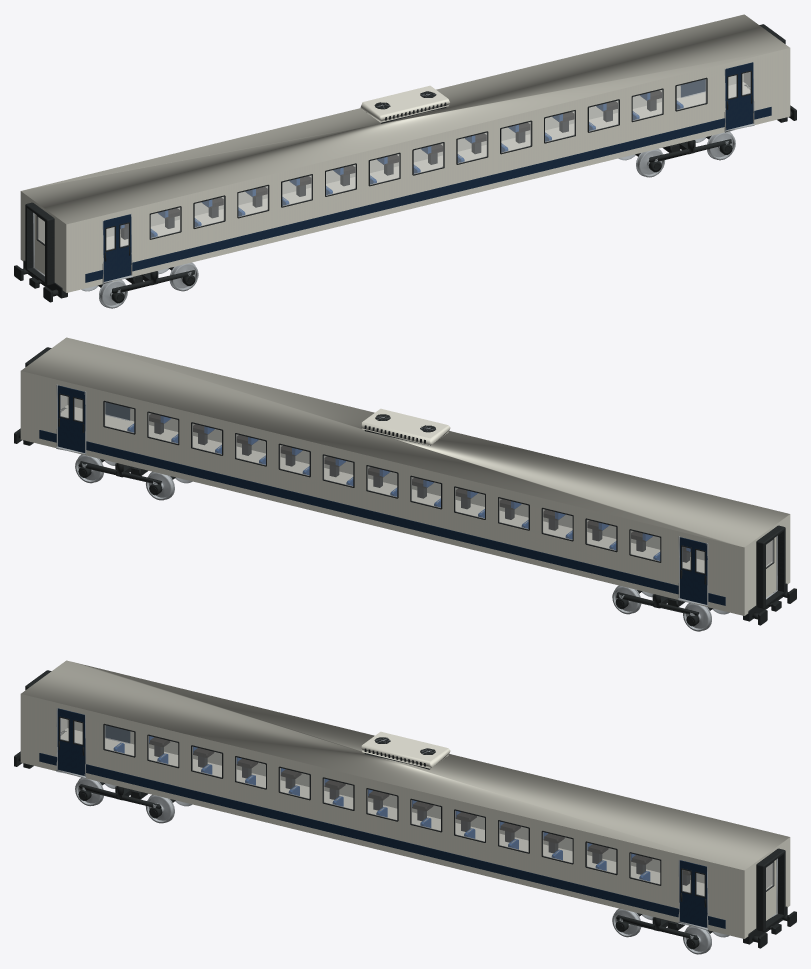
Rendered from train_coach.glb.
3 renders of one model, top to bottom at view 1: azimuth 30°, elevation 25°; view 2: azimuth 150°, elevation 25°; view 3: azimuth 330°, elevation 25°, orthographic.
Visible parts, largest first — view 1: Coach end 1 closed end door, Coach end 1 end door glazing, Coach bogie 9500 axle 0 exact through axle, Regional coach closed sliding door 1 0 1, Coach bogie 9500 axle 0 integral flanged steel wheel 1, Regional coach rounded seat back 0 1, Regional coach seat cushion 0 1, Coach end 1 end door frame 1; view 2: Coach end 1 closed end door, Coach end 1 end door glazing, Coach bogie 9500 axle 0 exact through axle, Regional coach closed sliding door 1 0 1, Coach bogie 9500 axle 0 integral flanged steel wheel 1, Regional coach rounded seat back 0 1, Regional coach seat cushion 0 1, Coach end 1 end door frame 1; view 3: Coach end 1 closed end door, Coach end 1 end door glazing, Coach bogie 9500 axle 0 exact through axle, Regional coach closed sliding door 1 0 1, Coach bogie 9500 axle 0 integral flanged steel wheel 1, Regional coach seat cushion 0 1, Regional coach rounded seat back 0 1, Coach end 1 end door frame 1.
Boxes of the visible parts, bbox=[...] form: Coach end 1 closed end door: bbox=[20, 14, 790, 292]; Coach end 1 end door glazing: bbox=[37, 72, 750, 250]; Coach bogie 9500 axle 0 exact through axle: bbox=[14, 24, 796, 303]; Regional coach closed sliding door 1 0 1: bbox=[85, 62, 771, 282]; Coach bogie 9500 axle 0 integral flanged steel wheel 1: bbox=[81, 94, 735, 308]; Regional coach rounded seat back 0 1: bbox=[120, 93, 683, 237]; Regional coach seat cushion 0 1: bbox=[121, 90, 661, 229]; Coach end 1 end door frame 1: bbox=[33, 62, 754, 284]; Coach end 1 closed end door: bbox=[20, 337, 790, 615]; Coach end 1 end door glazing: bbox=[60, 395, 773, 573]; Coach bogie 9500 axle 0 exact through axle: bbox=[14, 347, 796, 626]; Regional coach closed sliding door 1 0 1: bbox=[39, 385, 725, 605]; Coach bogie 9500 axle 0 integral flanged steel wheel 1: bbox=[75, 415, 729, 631]; Regional coach rounded seat back 0 1: bbox=[127, 416, 690, 560]; Regional coach seat cushion 0 1: bbox=[149, 413, 689, 552]; Coach end 1 end door frame 1: bbox=[56, 384, 777, 606]; Coach end 1 closed end door: bbox=[20, 660, 790, 938]; Coach end 1 end door glazing: bbox=[60, 718, 773, 896]; Coach bogie 9500 axle 0 exact through axle: bbox=[14, 670, 796, 949]; Regional coach closed sliding door 1 0 1: bbox=[39, 708, 725, 928]; Coach bogie 9500 axle 0 integral flanged steel wheel 1: bbox=[75, 737, 729, 954]; Regional coach seat cushion 0 1: bbox=[149, 737, 690, 875]; Regional coach rounded seat back 0 1: bbox=[113, 736, 650, 881]; Coach end 1 end door frame 1: bbox=[56, 708, 777, 930].
Size of the model in its own units: 26.4 by 4.23 by 2.89.
Materials: 8 (8 with a texture image).
